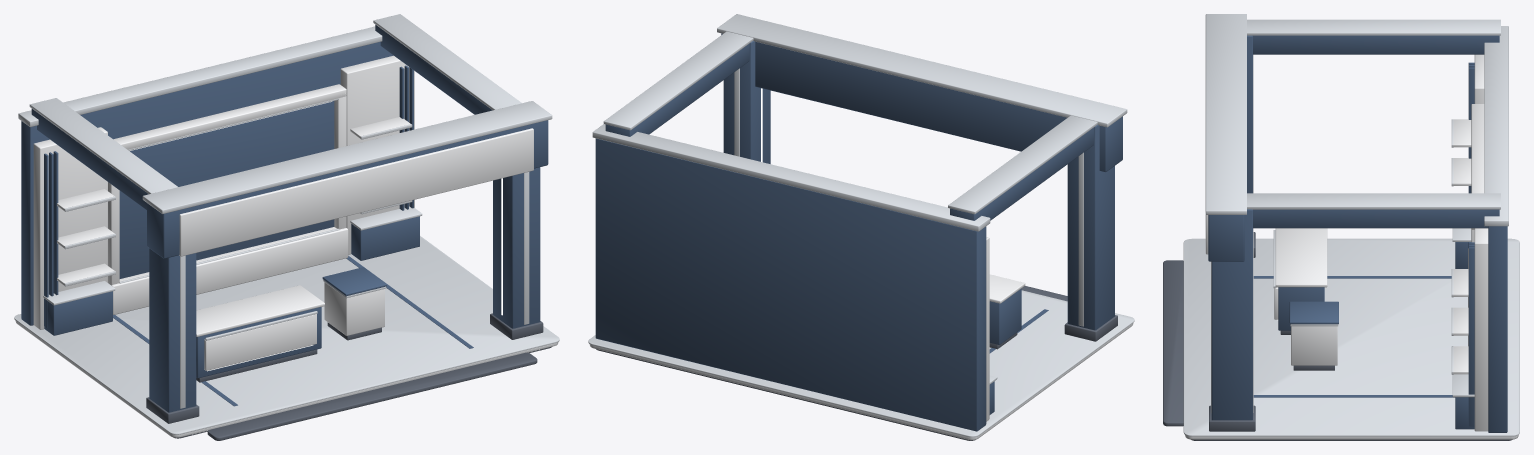
Rendered from booth_03_grand_portal_v4.glb.
3 renders of one model, left to right at view 1: azimuth 30°, elevation 25°; view 2: azimuth 150°, elevation 25°; view 3: azimuth 270°, elevation 25°, orthographic. The views are drawn at different scales.
Parts seen in each view (by area): view 1: Booth03_GrandPortal_Portal_Brushed_Silver, Booth03_GrandPortal_Portal_Executive_Navy, Booth03_GrandPortal_Portal_Crisp_White, Booth03_GrandPortal_Portal_Dark_Slate, Booth03_GrandPortal_Portal_Light_Granite, Booth03_GrandPortal_Portal_Cool_LED; view 2: Booth03_GrandPortal_Portal_Executive_Navy, Booth03_GrandPortal_Portal_Brushed_Silver, Booth03_GrandPortal_Portal_Light_Granite, Booth03_GrandPortal_Portal_Dark_Slate, Booth03_GrandPortal_Portal_Crisp_White; view 3: Booth03_GrandPortal_Portal_Brushed_Silver, Booth03_GrandPortal_Portal_Executive_Navy, Booth03_GrandPortal_Portal_Crisp_White, Booth03_GrandPortal_Portal_Dark_Slate, Booth03_GrandPortal_Portal_Light_Granite.
Part boxes in pixels (x1,y1,x2,y2): Booth03_GrandPortal_Portal_Brushed_Silver: (14, 14, 559, 434); Booth03_GrandPortal_Portal_Executive_Navy: (21, 25, 548, 412); Booth03_GrandPortal_Portal_Crisp_White: (33, 55, 533, 370); Booth03_GrandPortal_Portal_Dark_Slate: (146, 313, 551, 440); Booth03_GrandPortal_Portal_Light_Granite: (15, 321, 558, 437); Booth03_GrandPortal_Portal_Cool_LED: (130, 101, 539, 434); Booth03_GrandPortal_Portal_Executive_Navy: (595, 33, 1122, 431); Booth03_GrandPortal_Portal_Brushed_Silver: (588, 14, 1134, 437); Booth03_GrandPortal_Portal_Light_Granite: (589, 323, 1133, 440); Booth03_GrandPortal_Portal_Dark_Slate: (596, 286, 1117, 440); Booth03_GrandPortal_Portal_Crisp_White: (986, 237, 1025, 421); Booth03_GrandPortal_Portal_Brushed_Silver: (1183, 14, 1519, 436); Booth03_GrandPortal_Portal_Executive_Navy: (1208, 35, 1507, 432); Booth03_GrandPortal_Portal_Crisp_White: (1205, 54, 1488, 431); Booth03_GrandPortal_Portal_Dark_Slate: (1163, 232, 1512, 440); Booth03_GrandPortal_Portal_Light_Granite: (1185, 435, 1518, 439).
Size of the model in its own units: 7.22 by 3.98 by 5.52.
